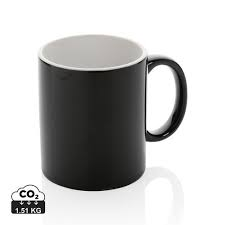mug: (25, 34, 197, 190)
